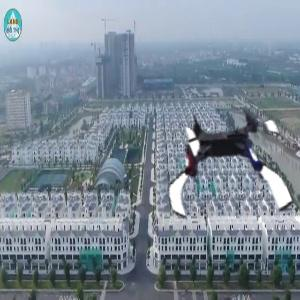drone: (157, 101, 294, 238)
